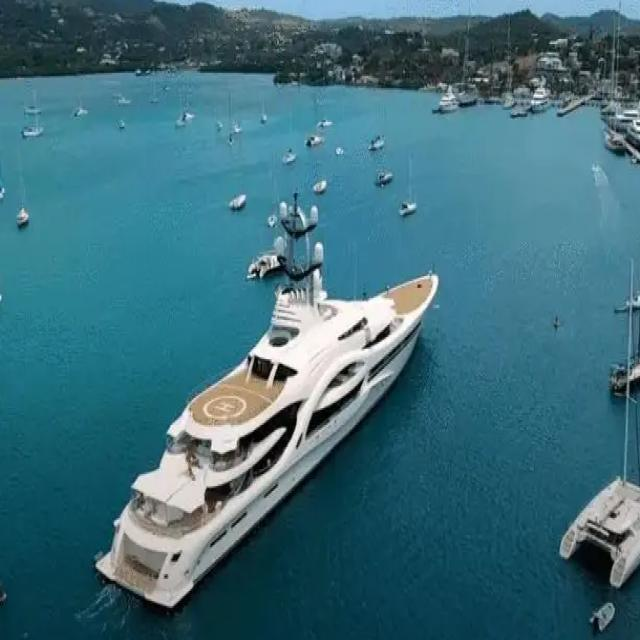passenger ship: (102, 275, 442, 609)
